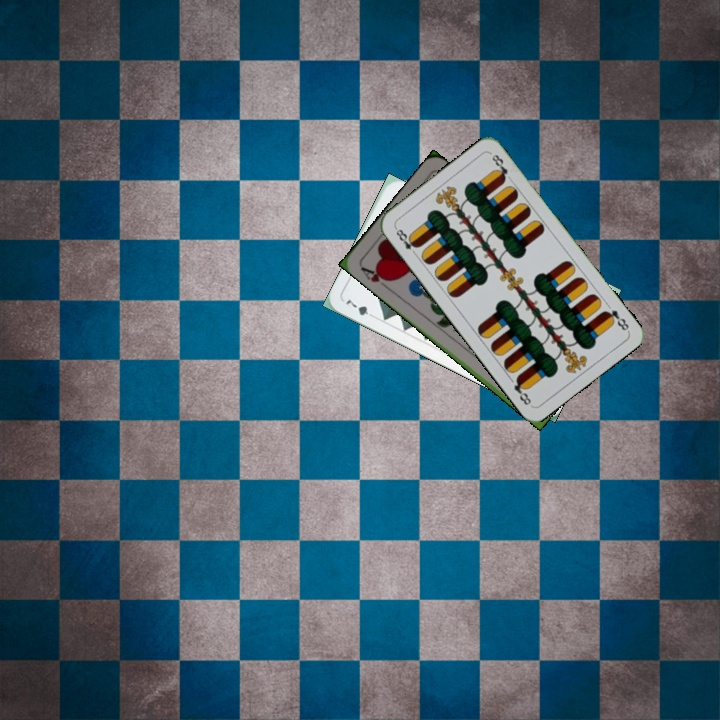E8: (391, 223, 421, 258), (599, 306, 632, 334)
G7: (342, 295, 378, 321)
HA: (356, 263, 393, 292)
